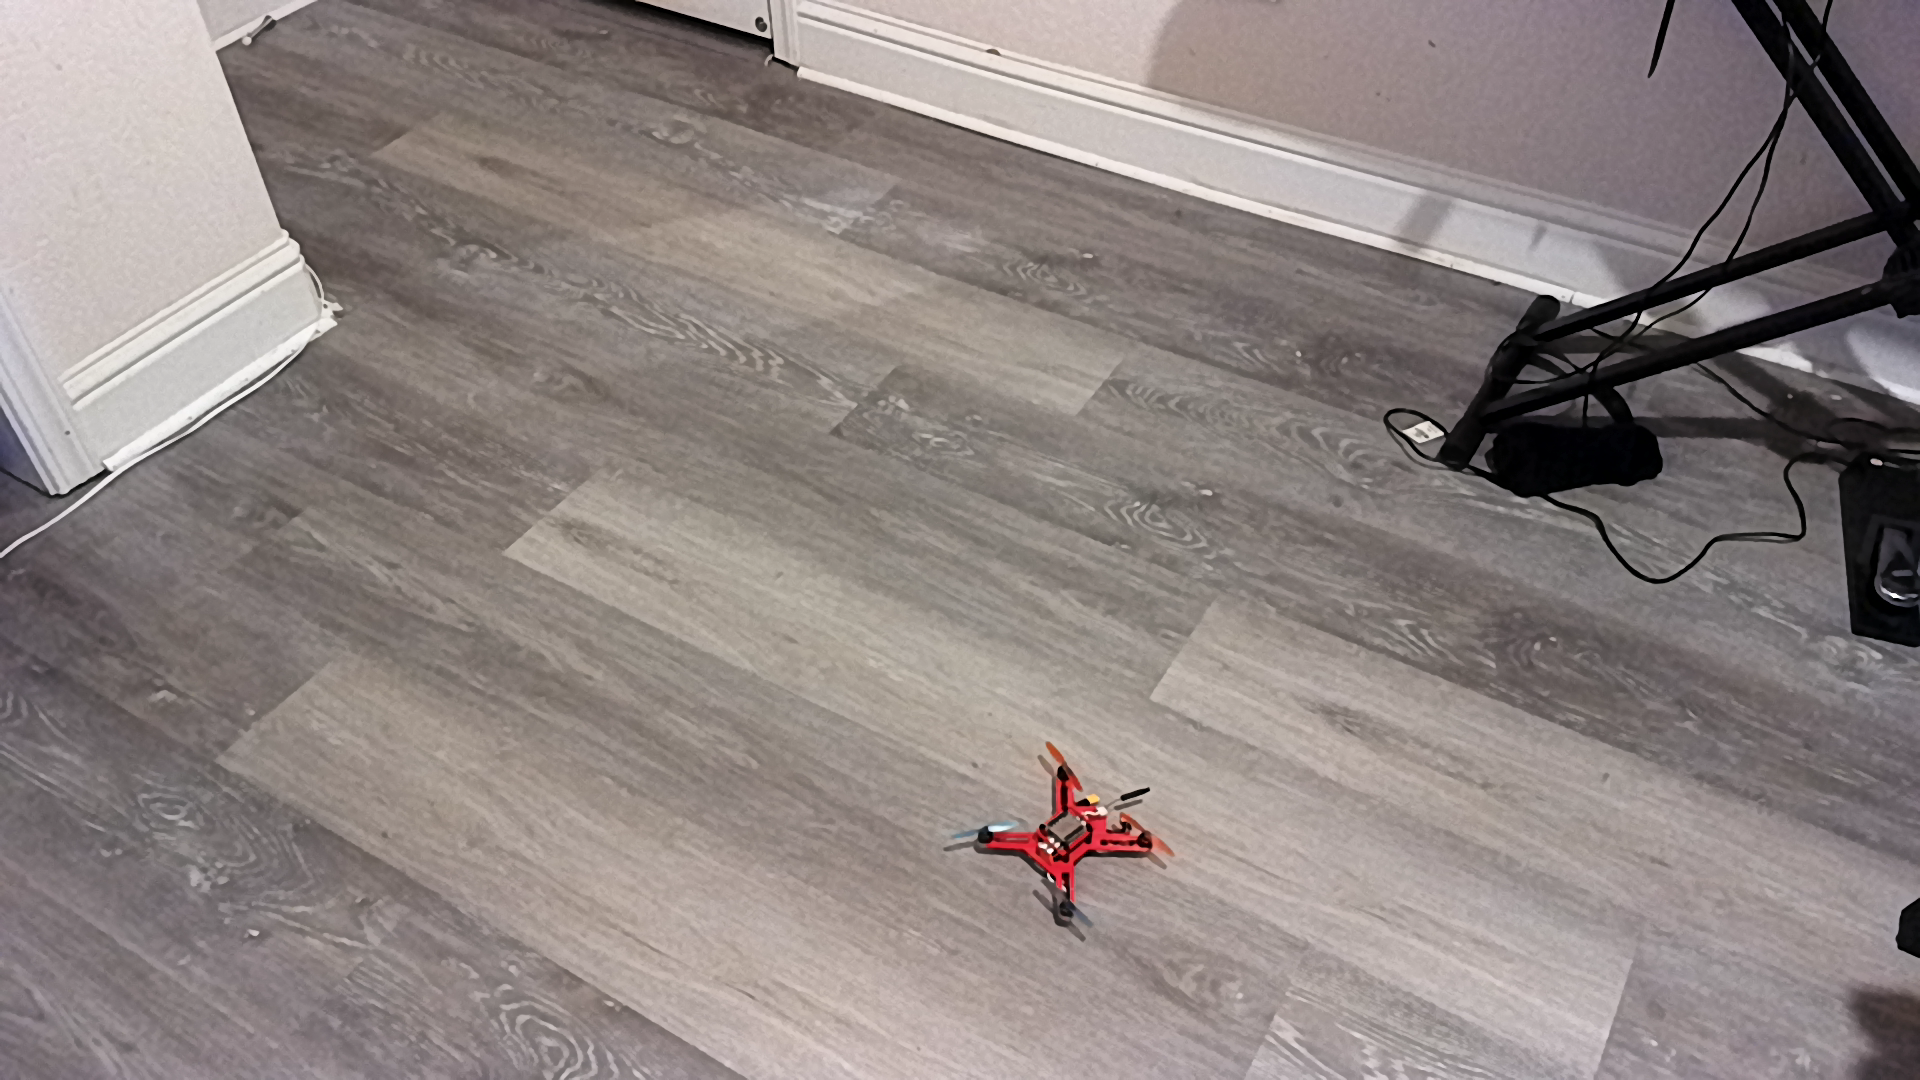drone: (940, 738, 1182, 935)
